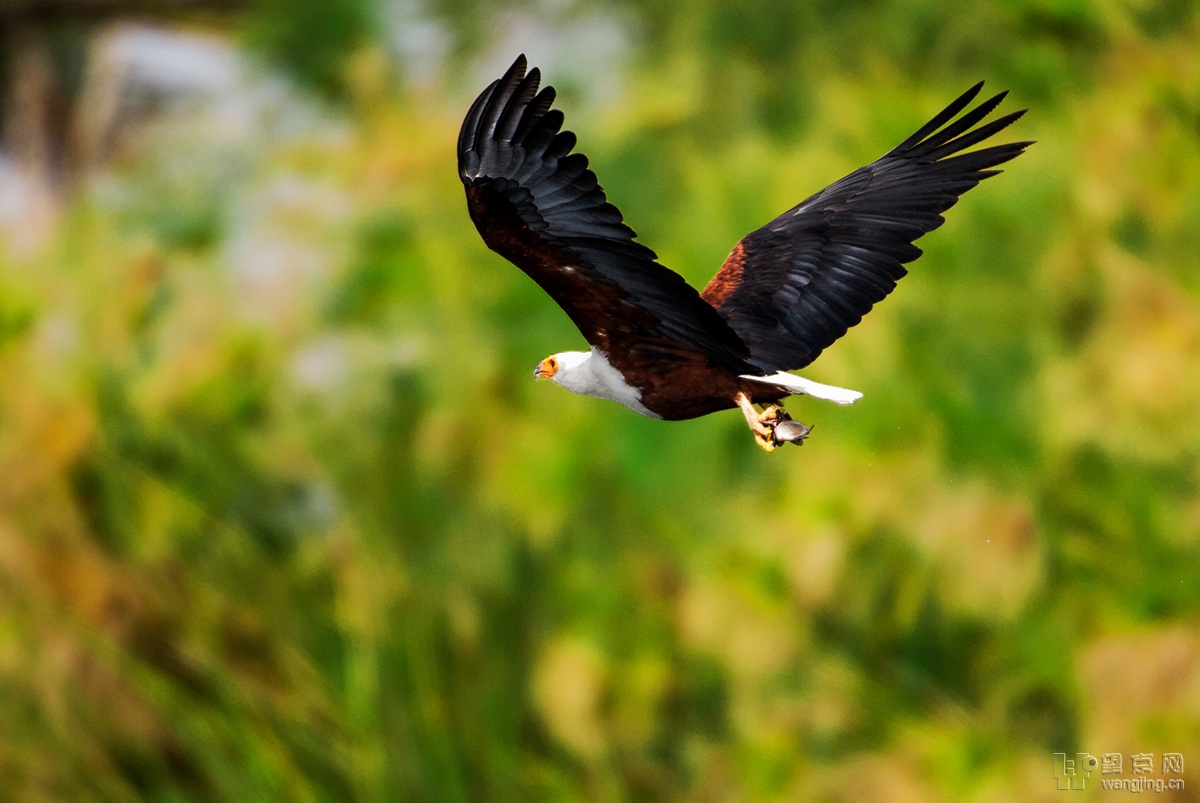bird: (449, 47, 1042, 450)
